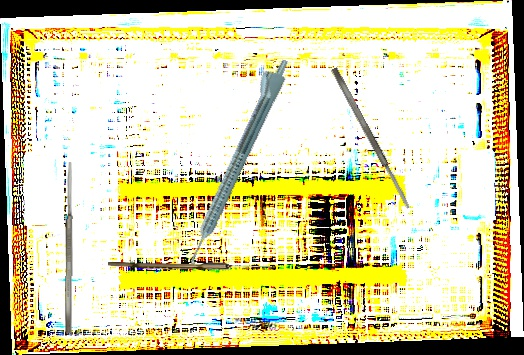Handpiece: (174, 52, 294, 268)
Spatula Surgical: (329, 66, 413, 211), (63, 161, 76, 334)
Surgical Spoon: (108, 262, 272, 270)
